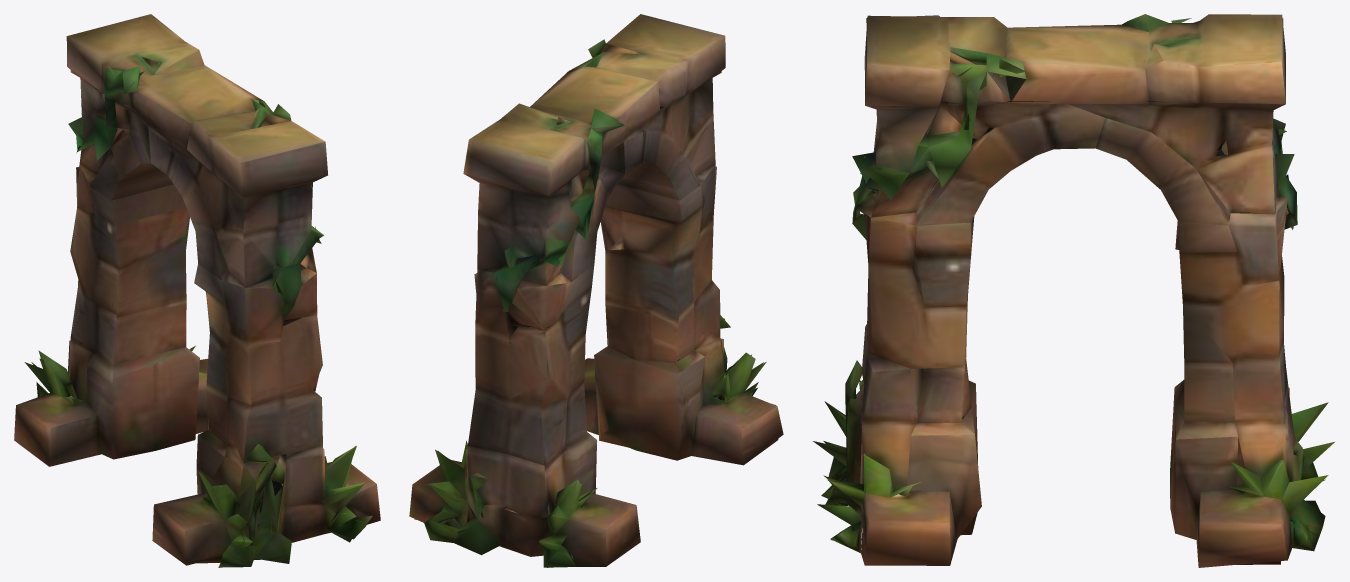
Rendered from sz-ruined-archway.glb.
3 views of the same model, side by side, from view 1: azimuth 30°, elevation 25°; view 2: azimuth 150°, elevation 25°; view 3: azimuth 270°, elevation 25° (orthographic). The views are drawn at different scales.
Visible parts, largest first — view 1: geometry_0; view 2: geometry_0; view 3: geometry_0.
Boxes of the visible parts, x1=… form: geometry_0: x1=14, y1=14, x2=380, y2=567; geometry_0: x1=409, y1=14, x2=783, y2=567; geometry_0: x1=813, y1=14, x2=1334, y2=567.
Size of the model in its own units: 0.5096 by 1 by 0.979.
Materials: 1 (1 with a texture image).
